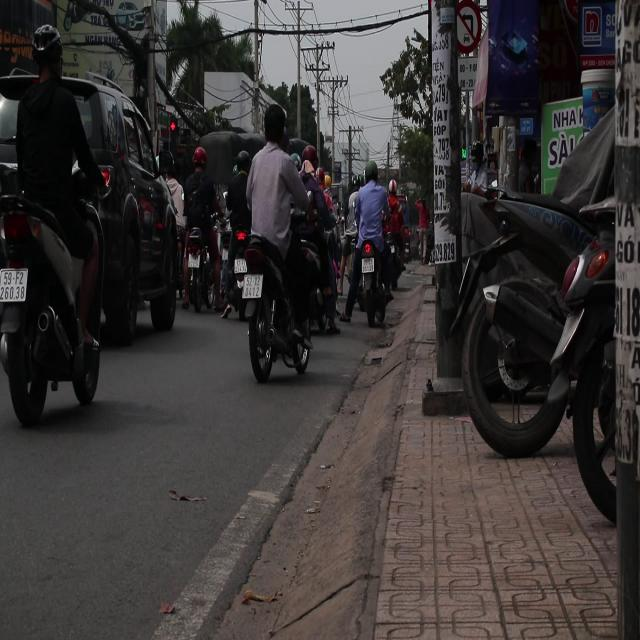car: (33, 75, 174, 345)
motorbike: (0, 170, 102, 423), (238, 209, 310, 385), (178, 204, 230, 354), (346, 206, 388, 346)
